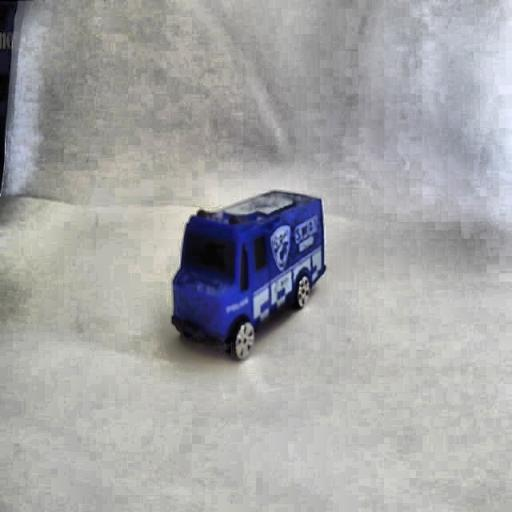police car: (170, 196, 333, 362)
